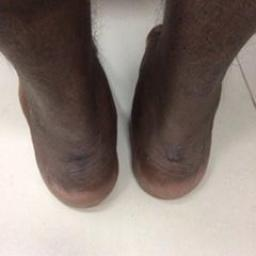Back View -Both Feet-: (1, 15, 251, 222)
